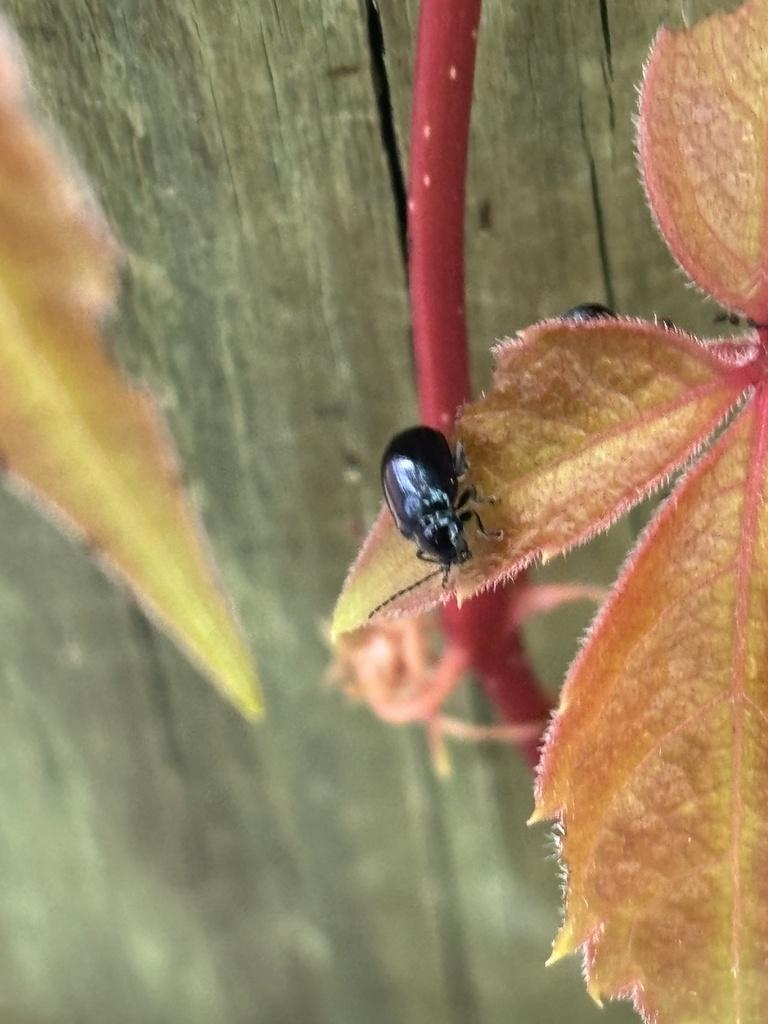flea_beetle: (315, 392, 549, 635)
